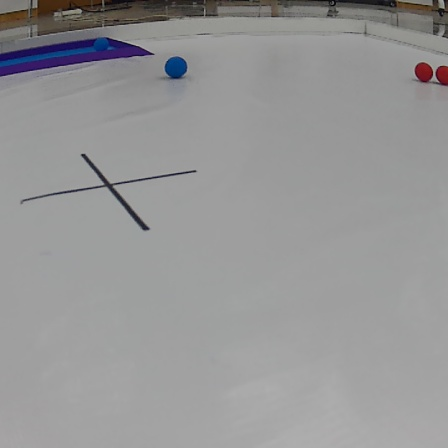blue: (162, 56, 191, 79), (91, 37, 111, 52)
blue_aim: (2, 37, 154, 75)
red: (411, 58, 433, 85), (434, 58, 447, 87)
